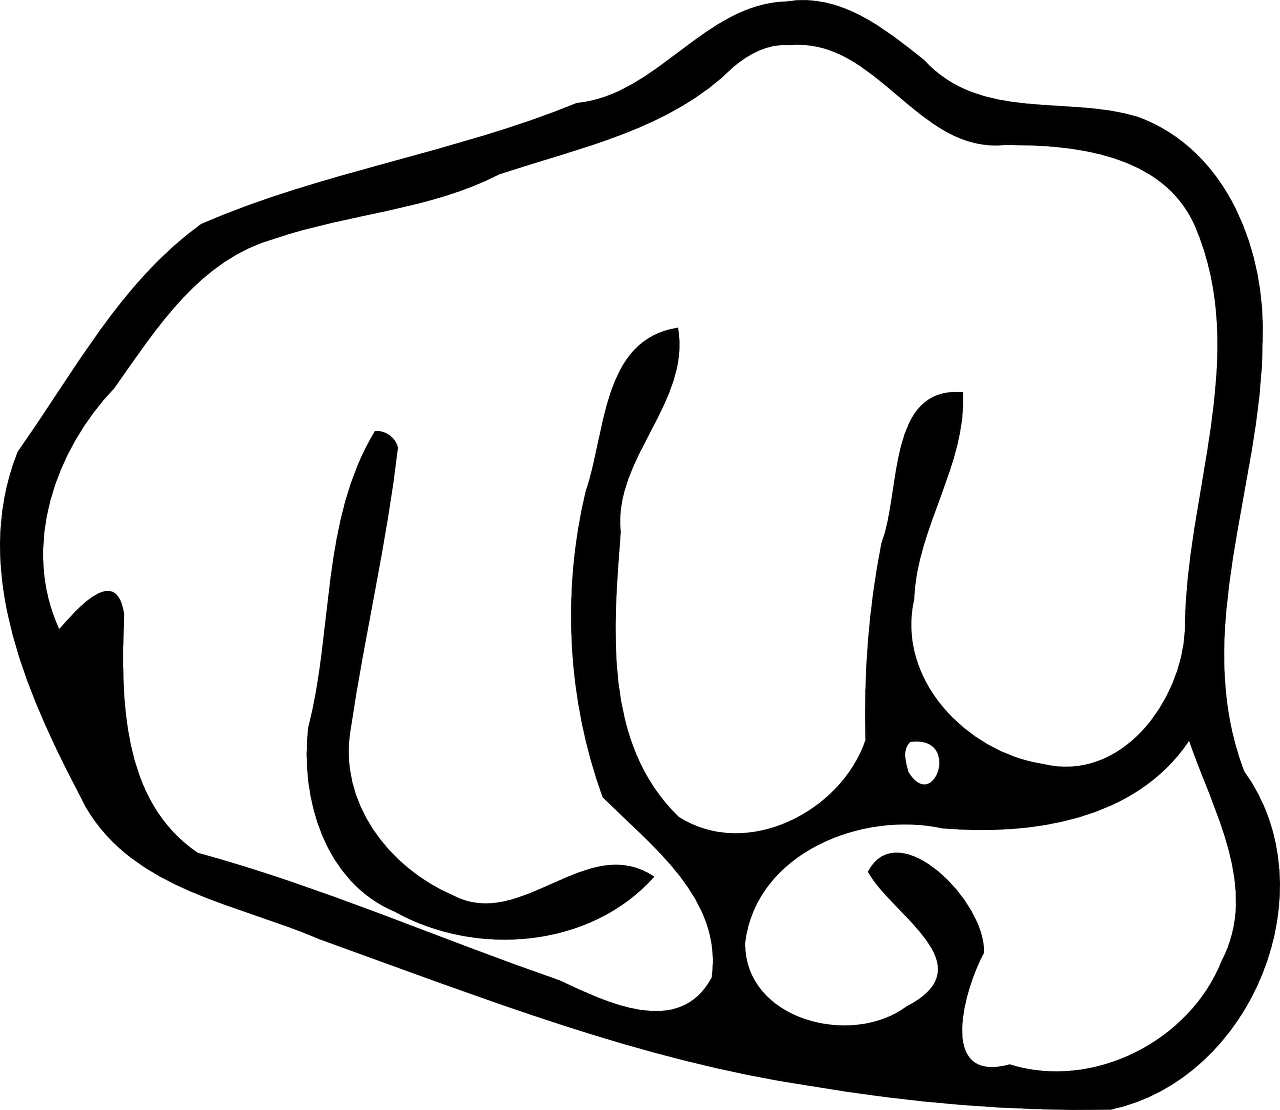fist: (88, 87, 1220, 1072)
